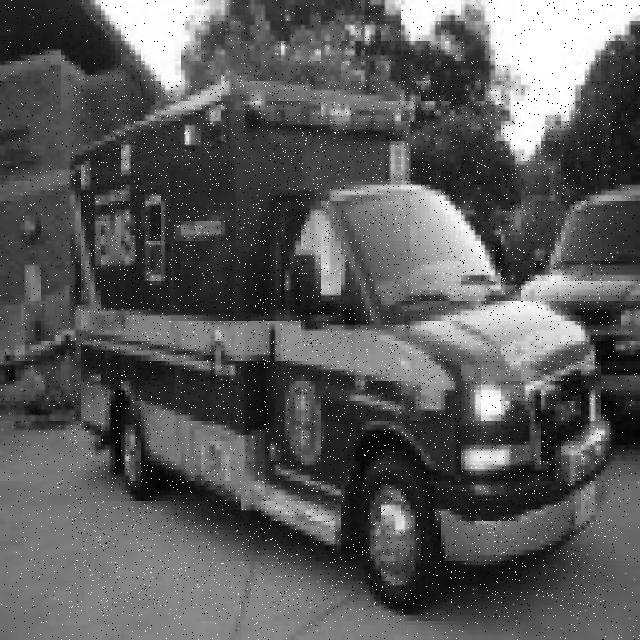Ambulance: (69, 78, 616, 617)
